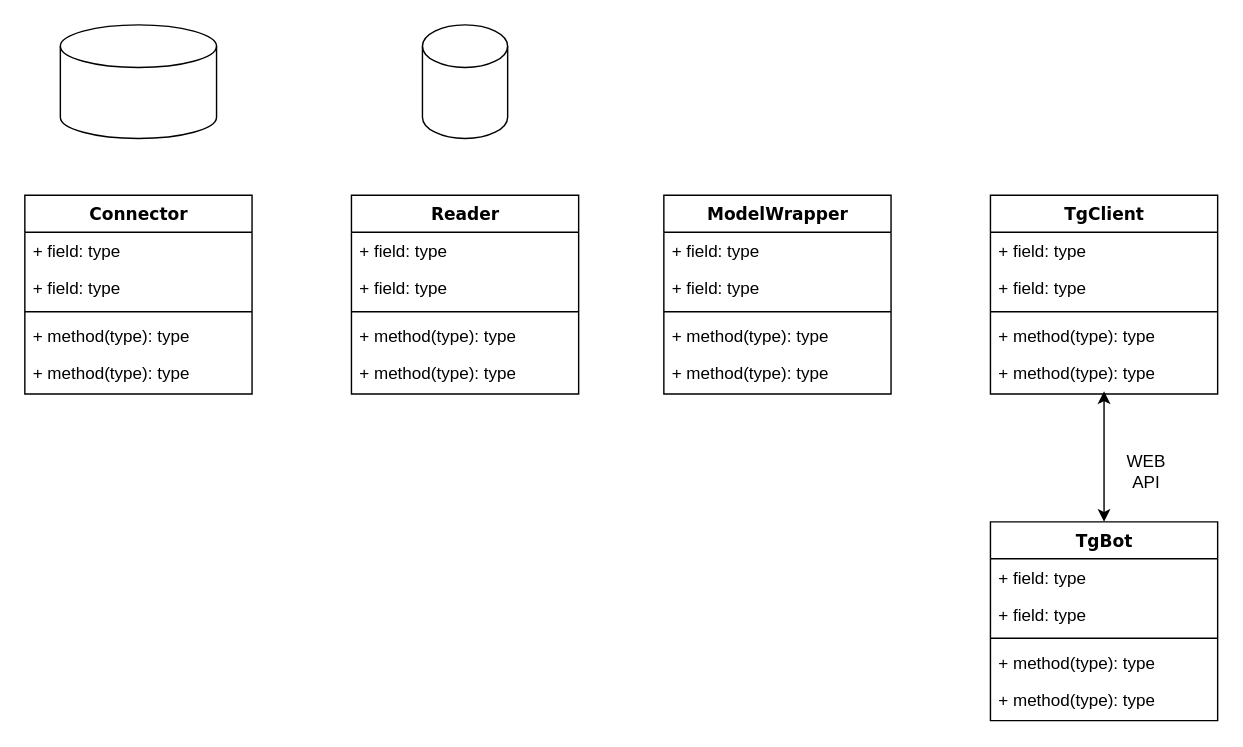
Image size: 1243x747. Some labels were removed from this diagram. Here are the shapes that lost their labels. From the top down, the centre of each, then its label:
At point (138, 80): "Device".
At point (464, 80): "БД".
